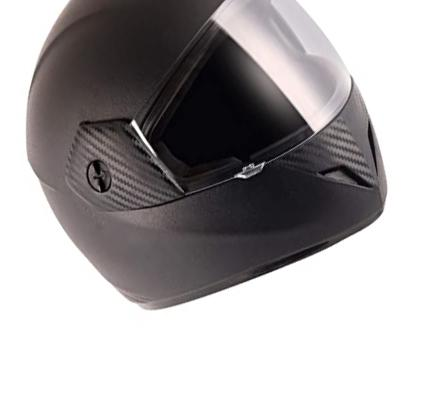helmet: (11, 1, 400, 333)
